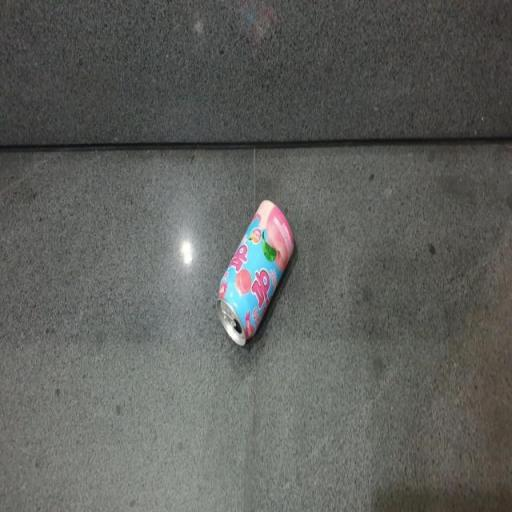metal: (206, 168, 317, 386)
